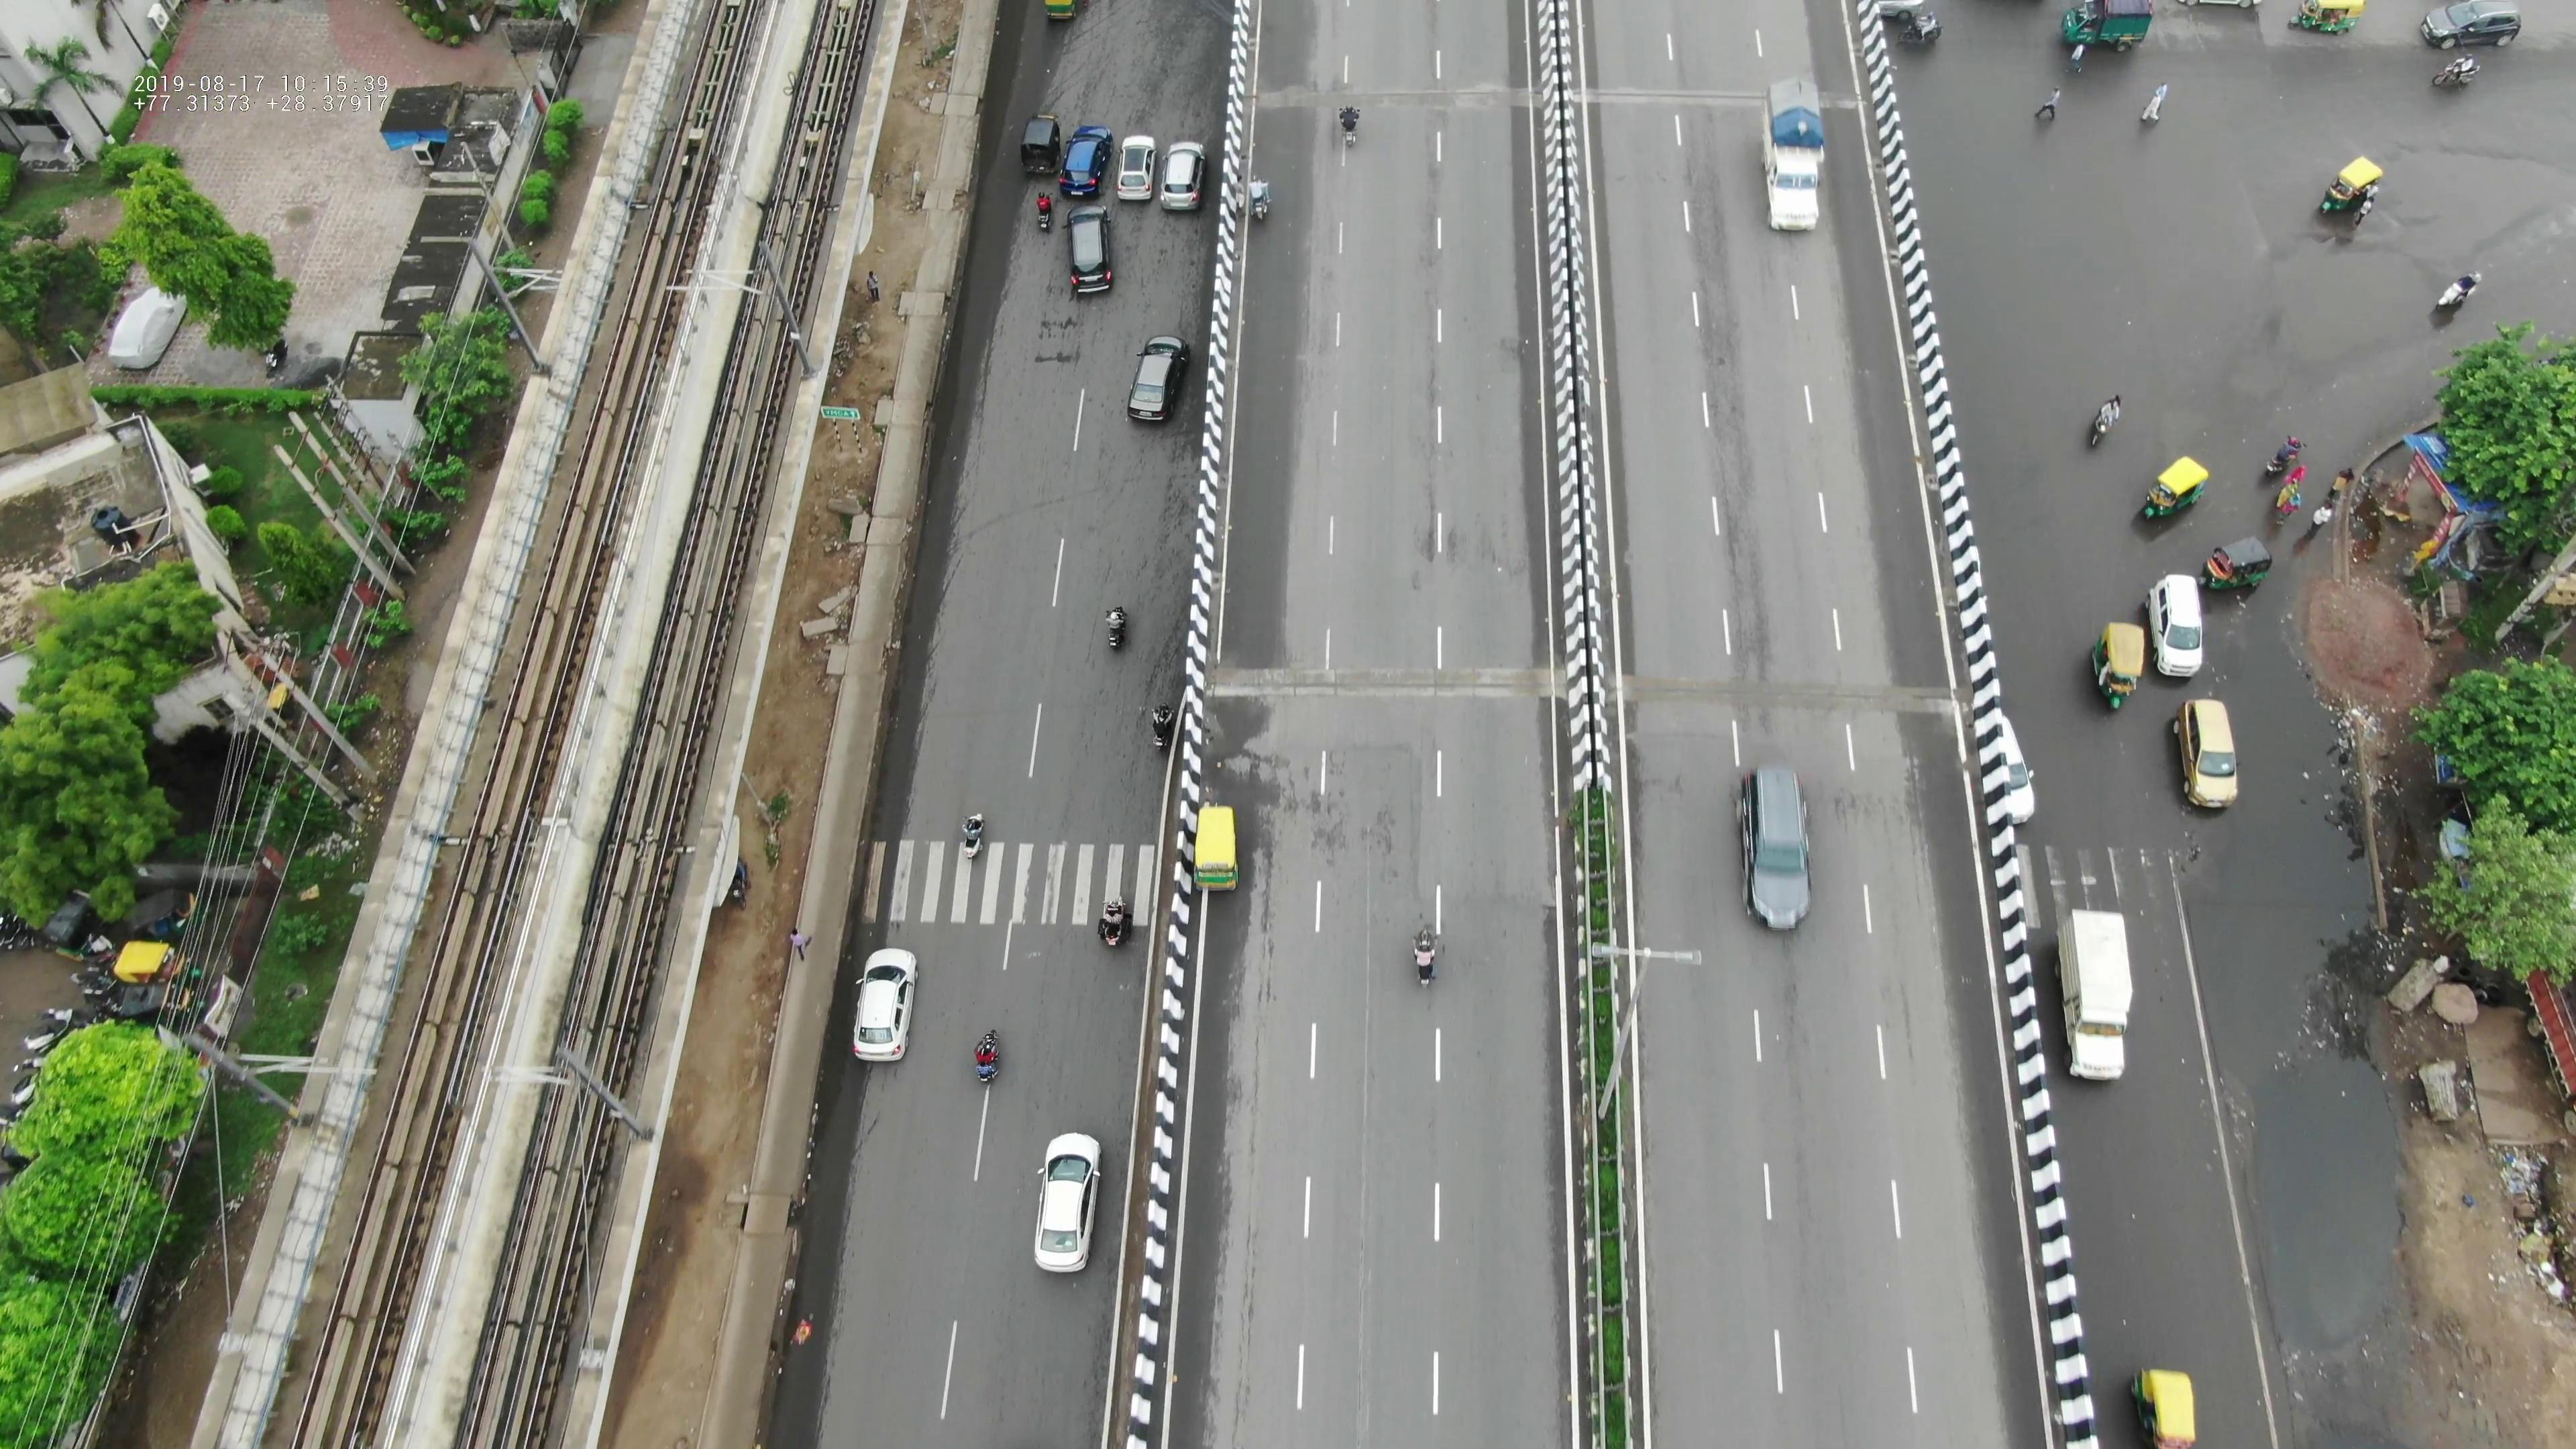Ravelling: (1690, 308, 1769, 669), (1665, 108, 1743, 299), (1412, 308, 1449, 570)
Waterlogging: (2238, 674, 2396, 938), (2226, 994, 2408, 1207)
